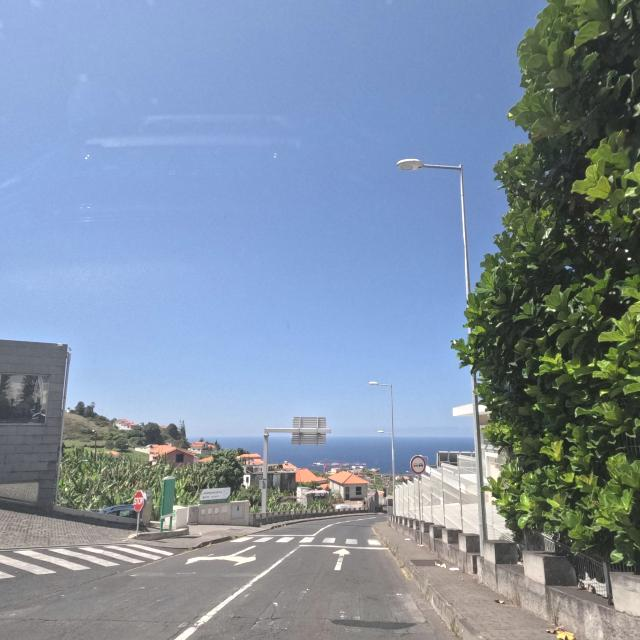car: (98, 503, 137, 517), (332, 503, 351, 513)
